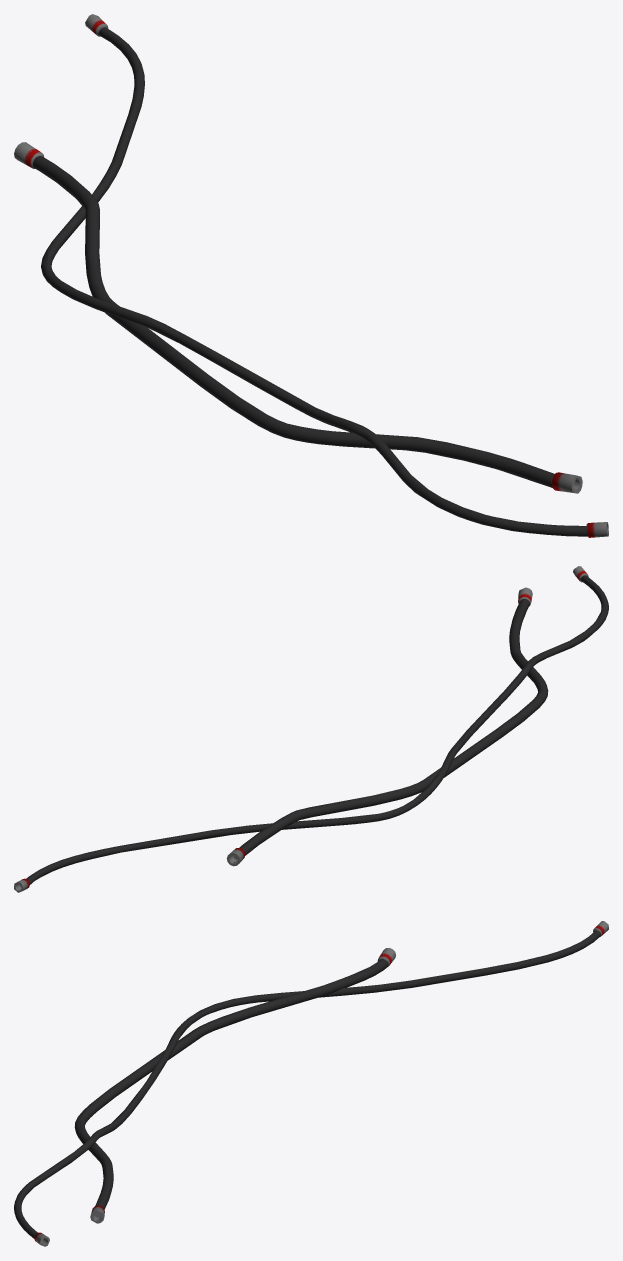
File: sf_cable_long.glb
3 views of the same model, one above another, from view 1: azimuth 30°, elevation 25°; view 2: azimuth 150°, elevation 25°; view 3: azimuth 330°, elevation 25° (orthographic). The views are drawn at different scales.
Parts seen in each view (by area): view 1: Prop_Cable_3; view 2: Prop_Cable_3; view 3: Prop_Cable_3.
Boxes of the visible parts, <box> form: Prop_Cable_3: <box>14,14,608,537</box>; Prop_Cable_3: <box>14,566,608,892</box>; Prop_Cable_3: <box>14,921,608,1246</box>.
Size of the model in its own units: 1.56 by 0.1136 by 5.73.
2 materials, 2 textured.
